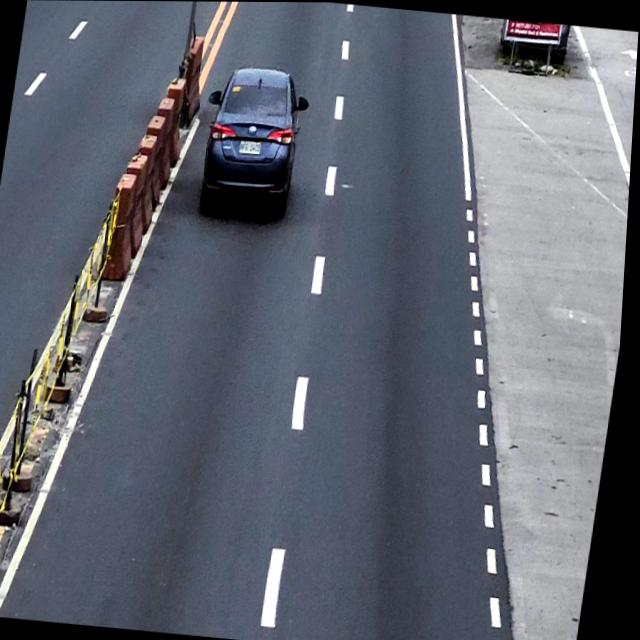Car: (195, 61, 314, 217)
License-Plate: (239, 139, 263, 154)
